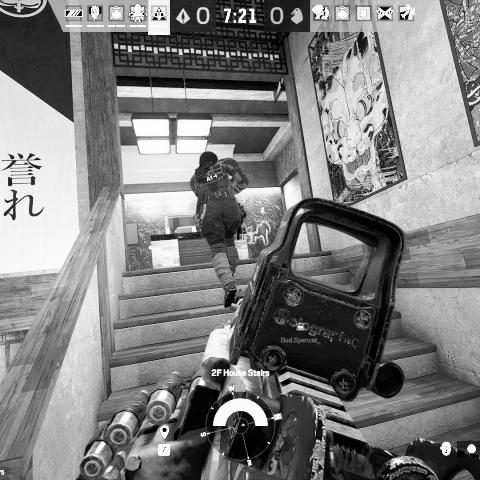Character: (190, 150, 250, 311)
Friend_label: (280, 321, 322, 345), (189, 126, 224, 148), (254, 207, 270, 223)
Head: (198, 150, 218, 164)
